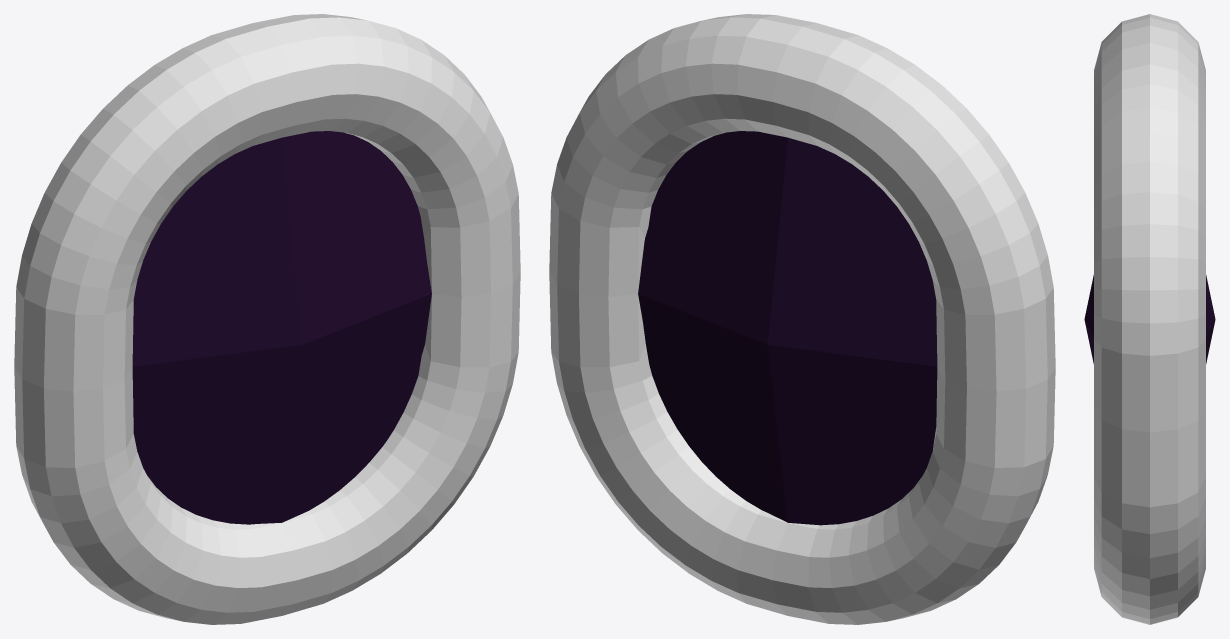
File: Obstacle1.fbx
3 renders of one model, left to right at view 1: azimuth 30°, elevation 25°; view 2: azimuth 150°, elevation 25°; view 3: azimuth 270°, elevation 25°, orthographic. The views are drawn at different scales.
Parts seen in each view (by area): view 1: Torus, Cube; view 2: Torus, Cube; view 3: Torus, Cube.
Part boxes in pixels (left/top/right/bottom): Torus: left=14, top=14, right=520, bottom=624; Cube: left=132, top=131, right=431, bottom=524; Torus: left=549, top=14, right=1055, bottom=624; Cube: left=638, top=131, right=937, bottom=525; Torus: left=1094, top=14, right=1205, bottom=624; Cube: left=1084, top=275, right=1215, bottom=363.
Bounding box in the file's own units: 143 × 163 × 34.96.
